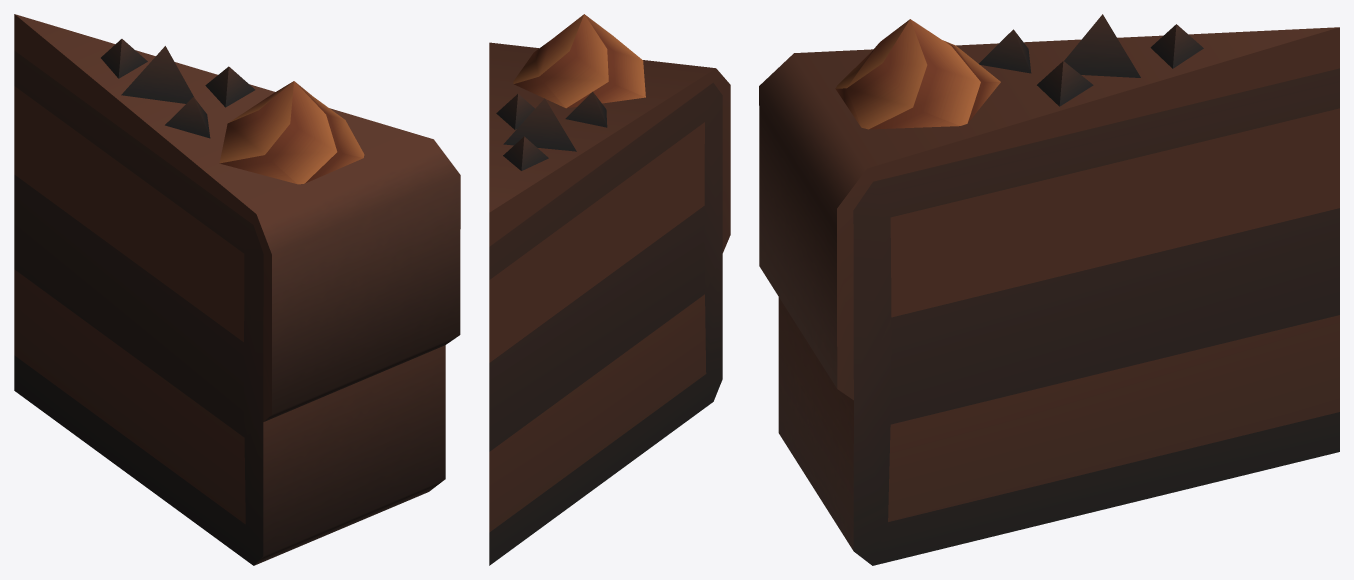
Rendered from m_ChocolateCake02_Slice01.fbx.
The picture shows the model from 3 angles, left to right: view 1: azimuth 30°, elevation 25°; view 2: azimuth 150°, elevation 25°; view 3: azimuth 270°, elevation 25°; orthographic projection. The views are drawn at different scales.
Visible parts, largest first — view 1: m_ChocolateCake02_Slice01; view 2: m_ChocolateCake02_Slice01; view 3: m_ChocolateCake02_Slice01.
Part boxes in pixels (x1=…): m_ChocolateCake02_Slice01: x1=14, y1=14, x2=460, y2=565; m_ChocolateCake02_Slice01: x1=489, y1=14, x2=730, y2=565; m_ChocolateCake02_Slice01: x1=759, y1=14, x2=1339, y2=565.
Bounding box in the file's own units: 7.24 × 13.27 × 14.48.
